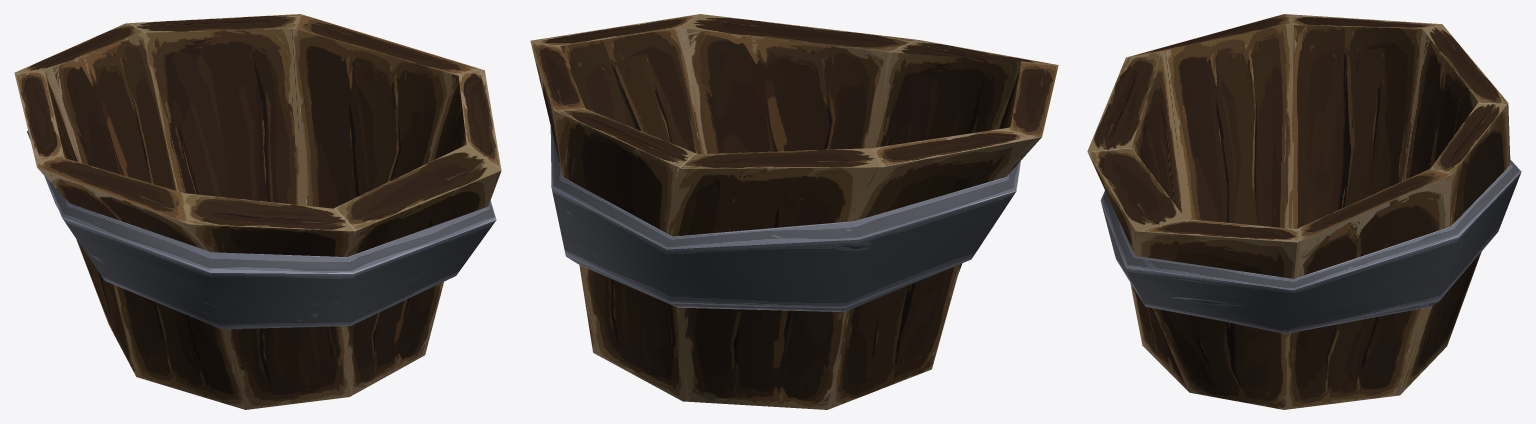
Rendered from SM_PROP_bucket_02.fbx.
The picture shows the model from 3 angles, left to right: view 1: azimuth 30°, elevation 25°; view 2: azimuth 150°, elevation 25°; view 3: azimuth 270°, elevation 25°; orthographic projection. The views are drawn at different scales.
Visible parts, largest first — view 1: SM_PROP_bucket_02; view 2: SM_PROP_bucket_02; view 3: SM_PROP_bucket_02.
Boxes of the visible parts, left/top/right/bottom form: SM_PROP_bucket_02: left=14, top=14, right=501, bottom=409; SM_PROP_bucket_02: left=530, top=14, right=1058, bottom=409; SM_PROP_bucket_02: left=1087, top=14, right=1521, bottom=409.
Size of the model in its own units: 69.14 by 37.41 by 60.22.
